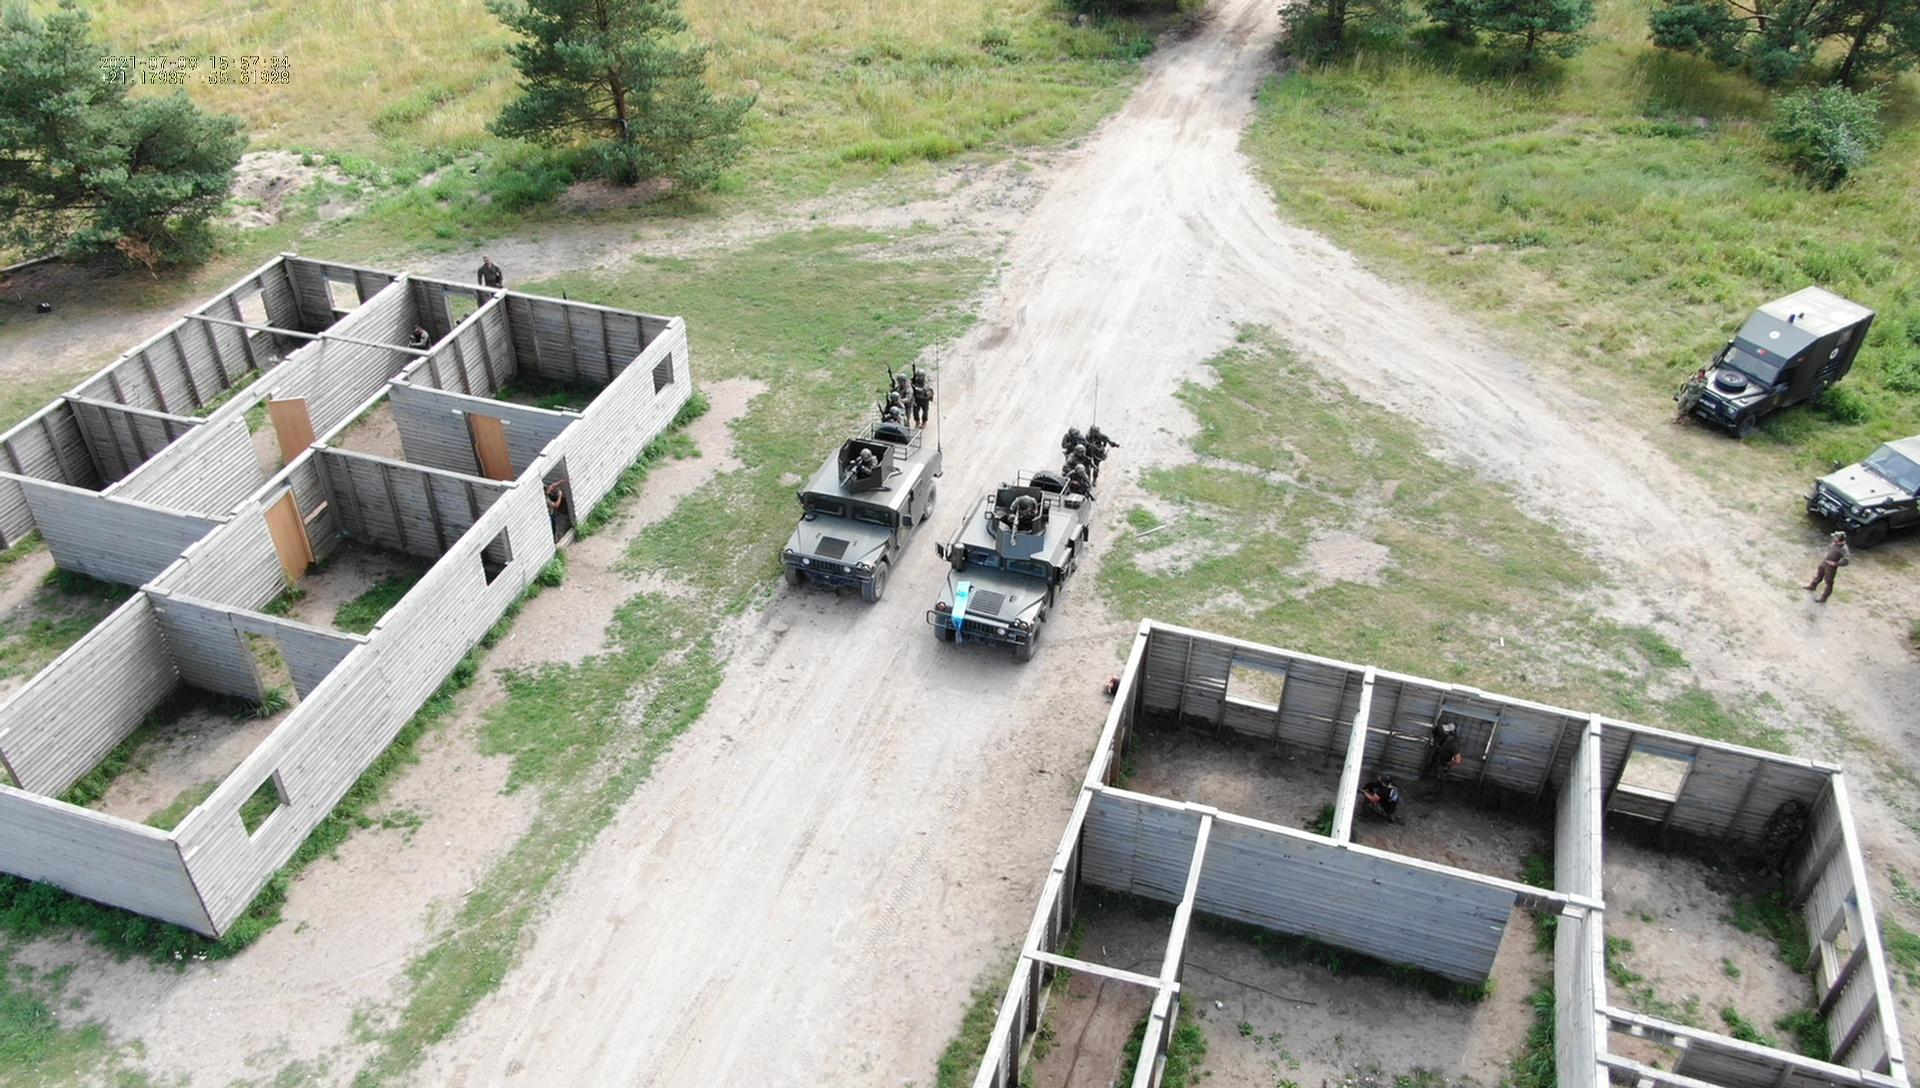Soldier: (1809, 521, 1857, 611), (1419, 727, 1464, 812), (1358, 768, 1404, 831), (1676, 364, 1716, 429), (905, 357, 938, 430), (1009, 481, 1050, 539), (469, 243, 512, 291), (1072, 429, 1112, 473), (849, 455, 887, 499), (1064, 452, 1095, 497), (1064, 425, 1098, 452), (889, 364, 913, 394), (887, 392, 909, 419)
